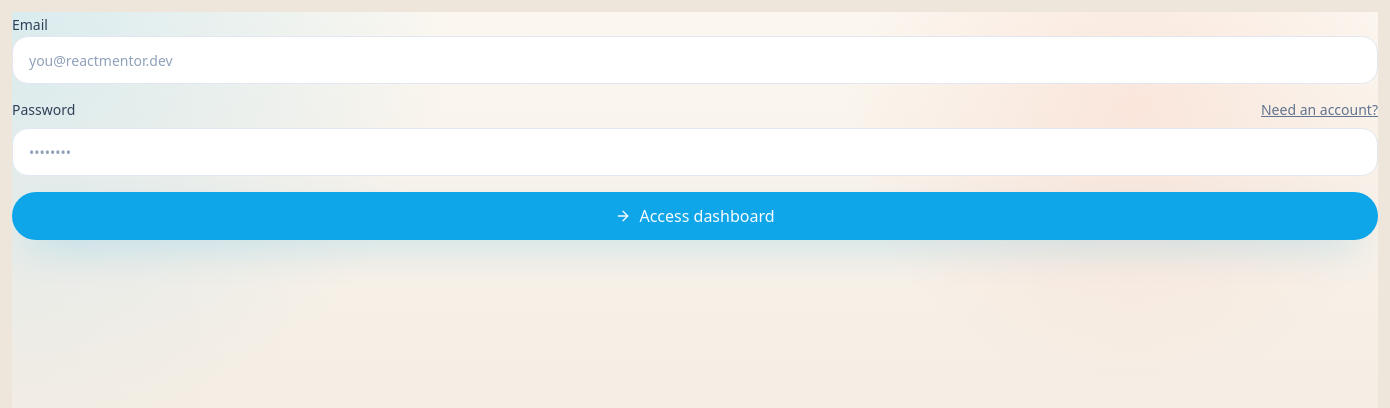
SignInForm › shows validation messages and does not submit invalid data
Type "john@example.com" into the field labelled "Email" at (695, 60), box [12,36,1378,84]
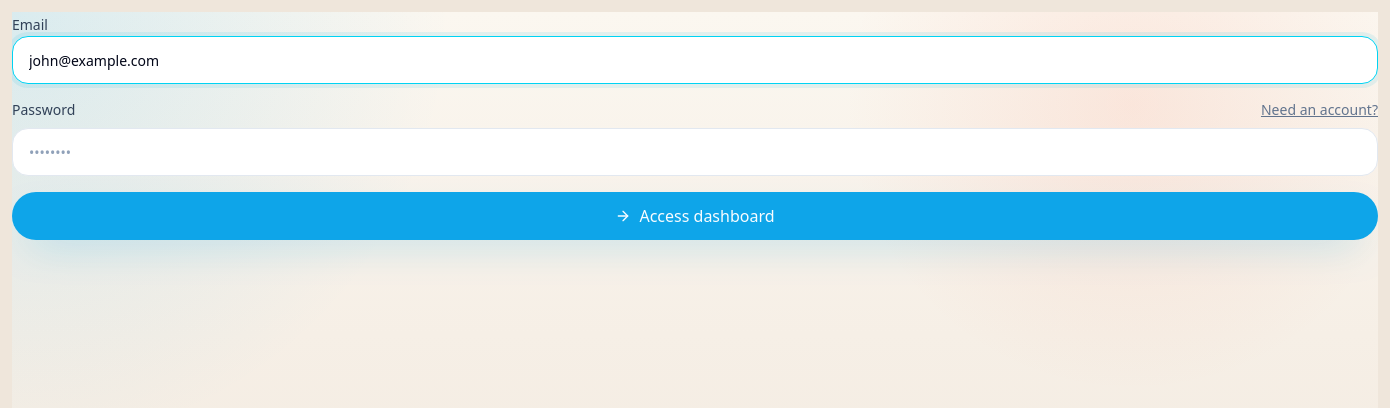
Type "123" into the password field labelled "Password" at (695, 152), box [12,128,1378,176]
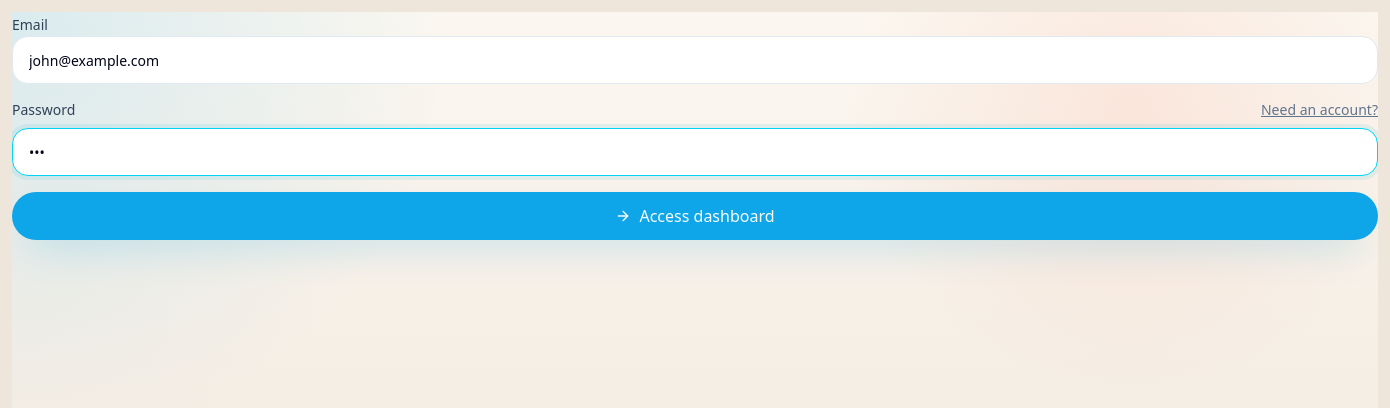
Click the button "Access dashboard" at (695, 216), box [12,192,1378,240]
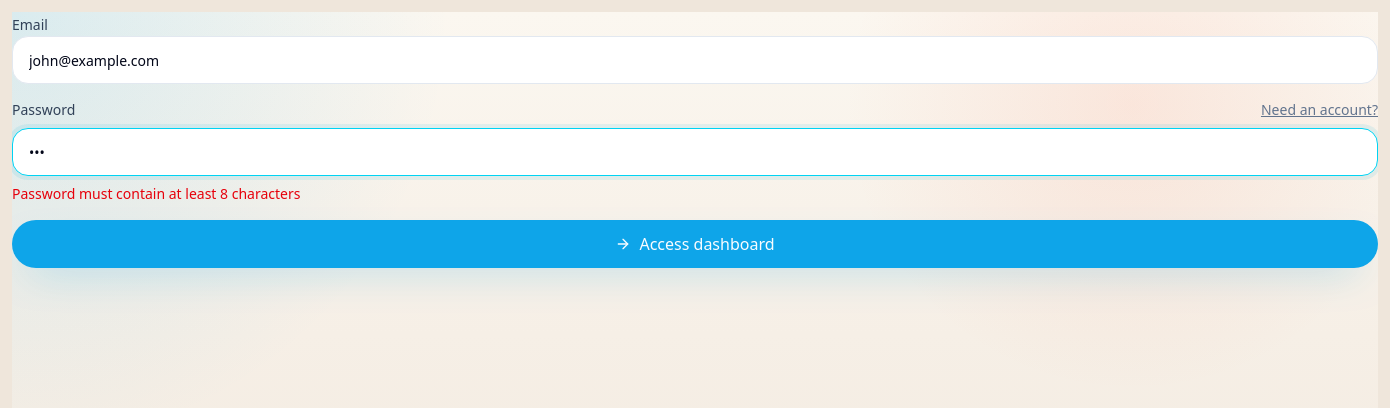
Now the text "Password must contain at least 8 characters" is shown, box [12,184,300,203]
